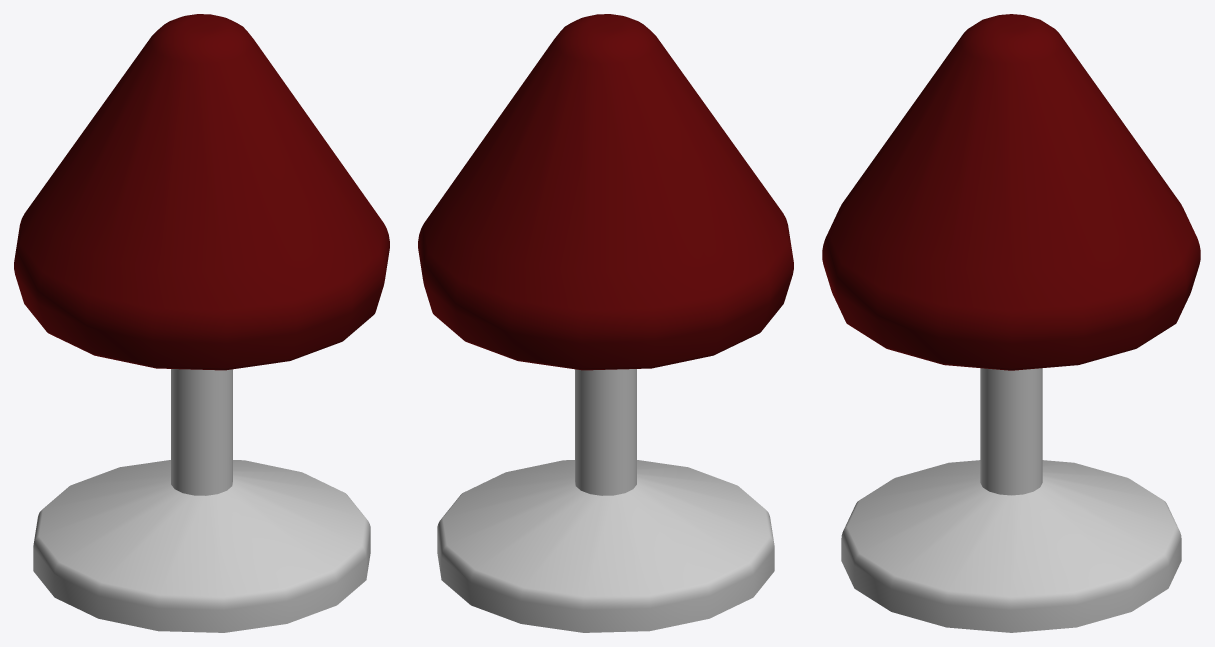
Rendered from DeskLamb.fbx.
3 views of the same model, side by side, from view 1: azimuth 30°, elevation 25°; view 2: azimuth 150°, elevation 25°; view 3: azimuth 270°, elevation 25° (orthographic).
Parts seen in each view (by area): view 1: LambForDesk; view 2: LambForDesk; view 3: LambForDesk.
Part boxes in pixels (left/top/right/bottom): LambForDesk: left=14, top=14, right=389, bottom=632; LambForDesk: left=418, top=14, right=793, bottom=632; LambForDesk: left=822, top=14, right=1200, bottom=632.
Bounding box in the file's own units: 0.2787 × 0.4357 × 0.2787.
